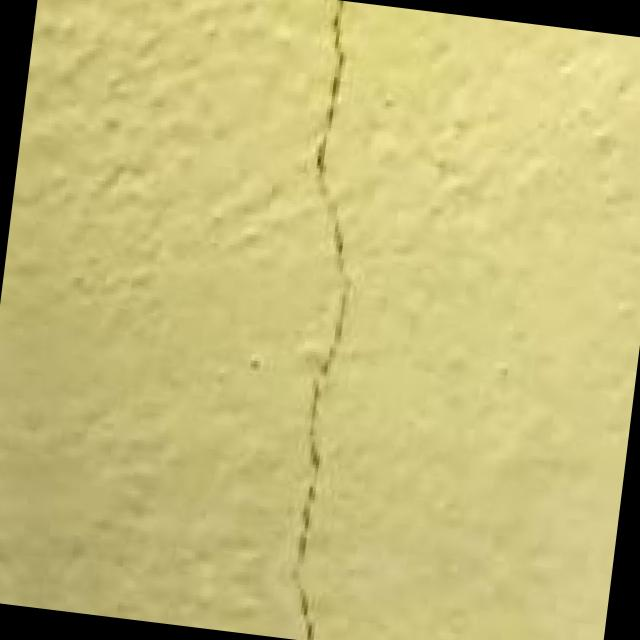crack: (218, 0, 476, 640)
